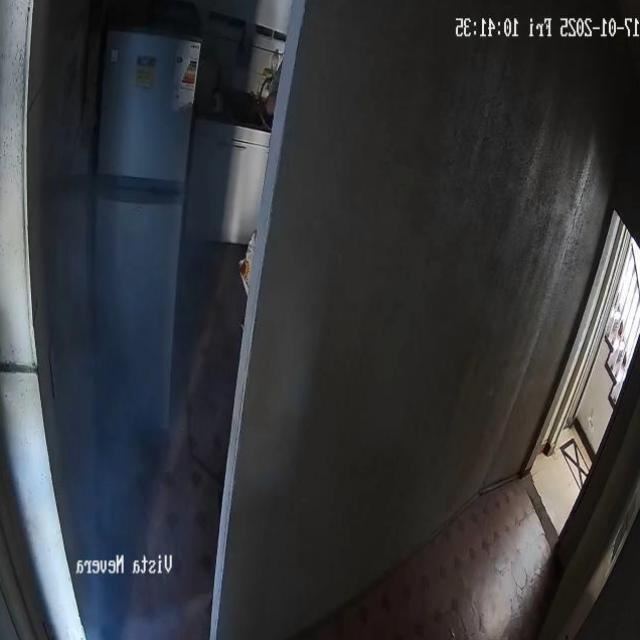fire: (67, 237, 215, 640)
